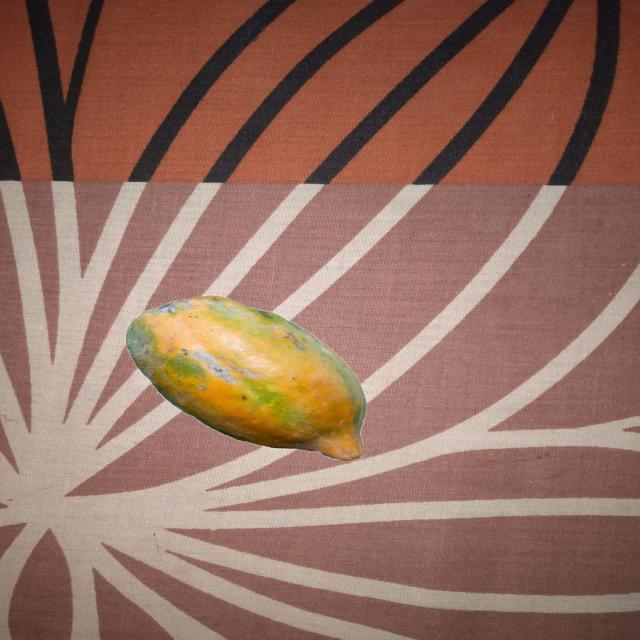Pepaya rippen: (101, 287, 382, 471)
